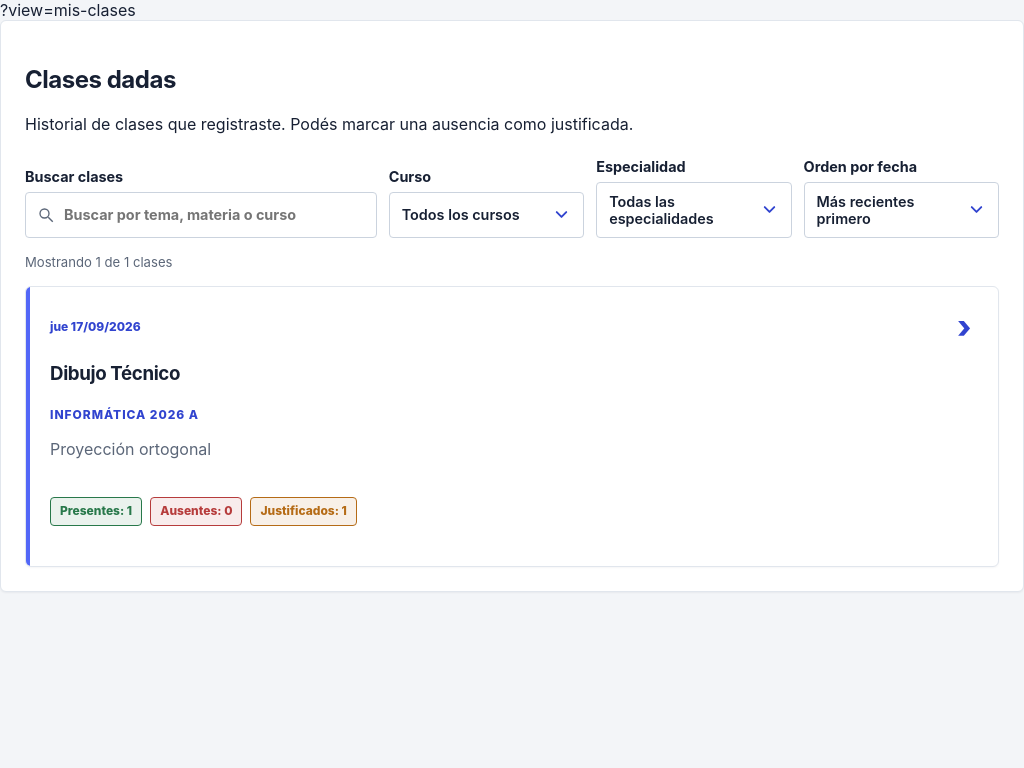
Historial y detalle de clases › permite reintentar un detalle fallido
Click the button with aria-label "Ver clase:" at point(512, 426), box [25,286,999,567]
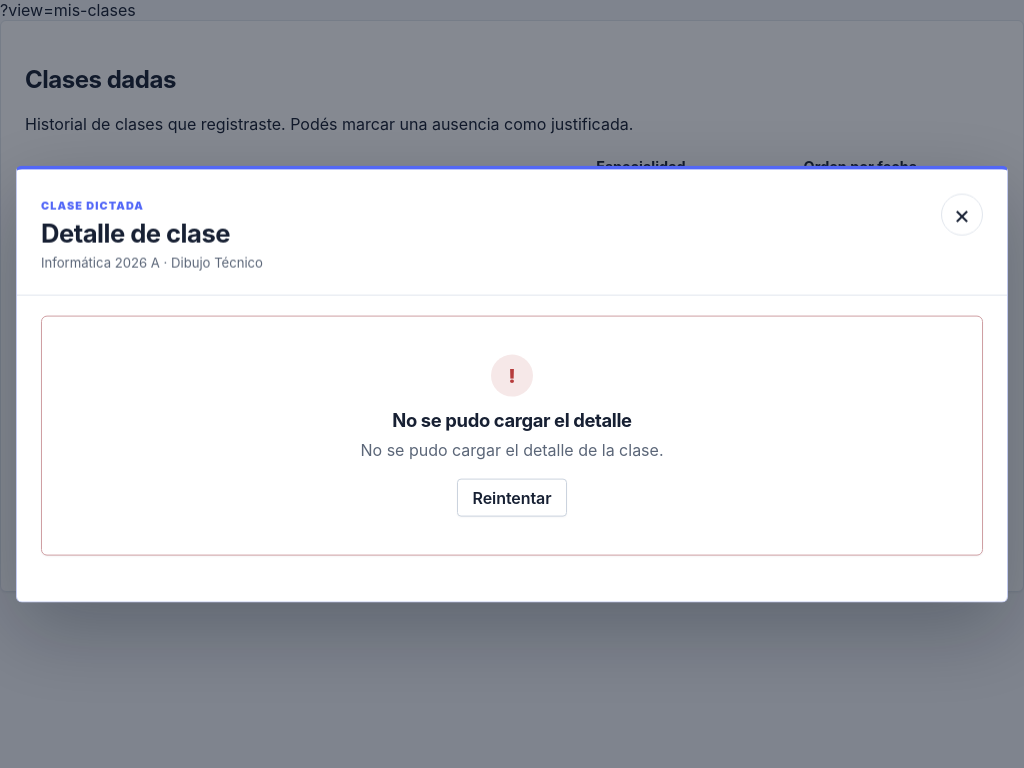
Expected: the heading "No se pudo cargar el detalle" is shown, [392,409,632,431]
Click the button "Reintentar" at point(512, 497), box [456,478,567,516]
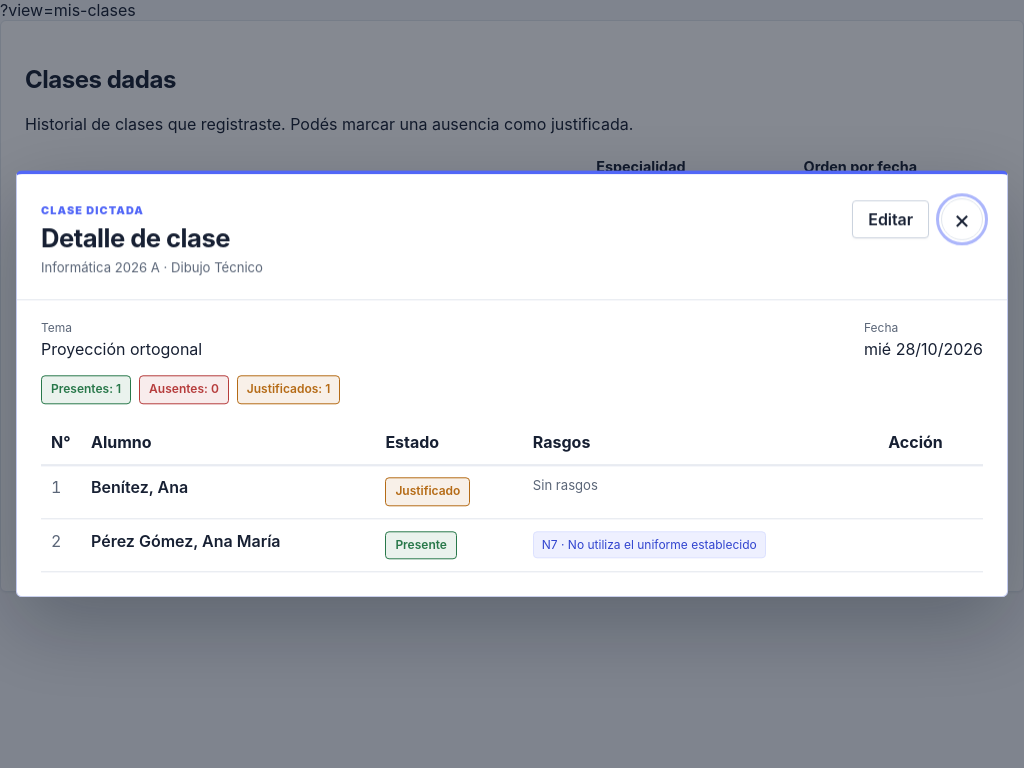
Expected: the column heading "Pérez Gómez, Ana María" is shown, [81,519,375,573]
